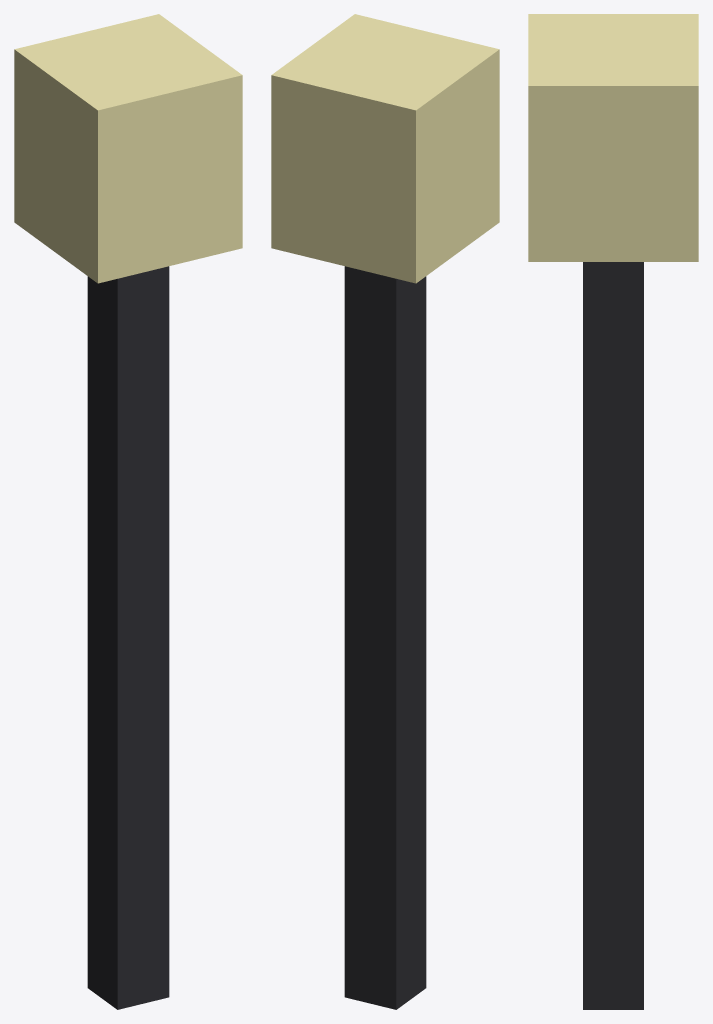
Rendered from lamp.obj.
3 views of the same model, side by side, from view 1: azimuth 30°, elevation 25°; view 2: azimuth 150°, elevation 25°; view 3: azimuth 270°, elevation 25° (orthographic).
Bounding box in the file's own units: 0.28 × 1.72 × 0.28.
